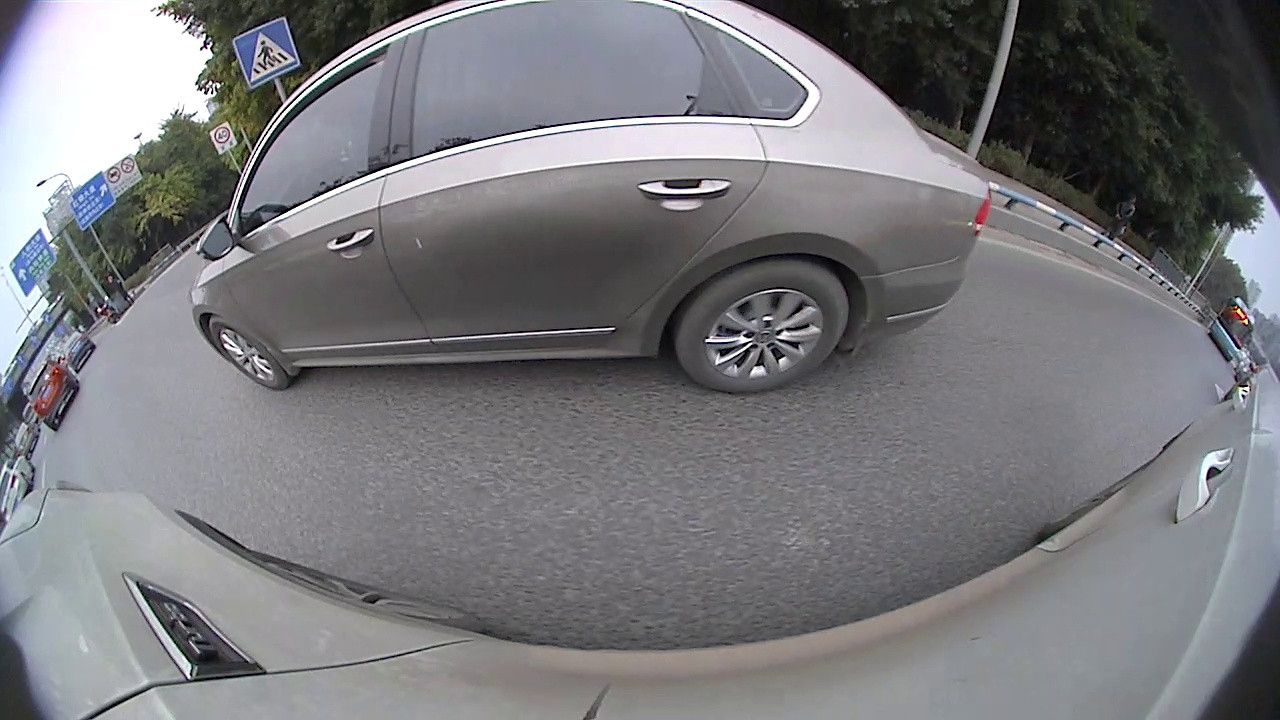car: (142, 184, 408, 327), (448, 134, 567, 221), (0, 341, 103, 440), (585, 148, 657, 198), (659, 156, 714, 185)
front: (43, 373, 87, 424), (375, 209, 402, 248)
rear: (236, 253, 289, 312), (528, 179, 546, 213)
